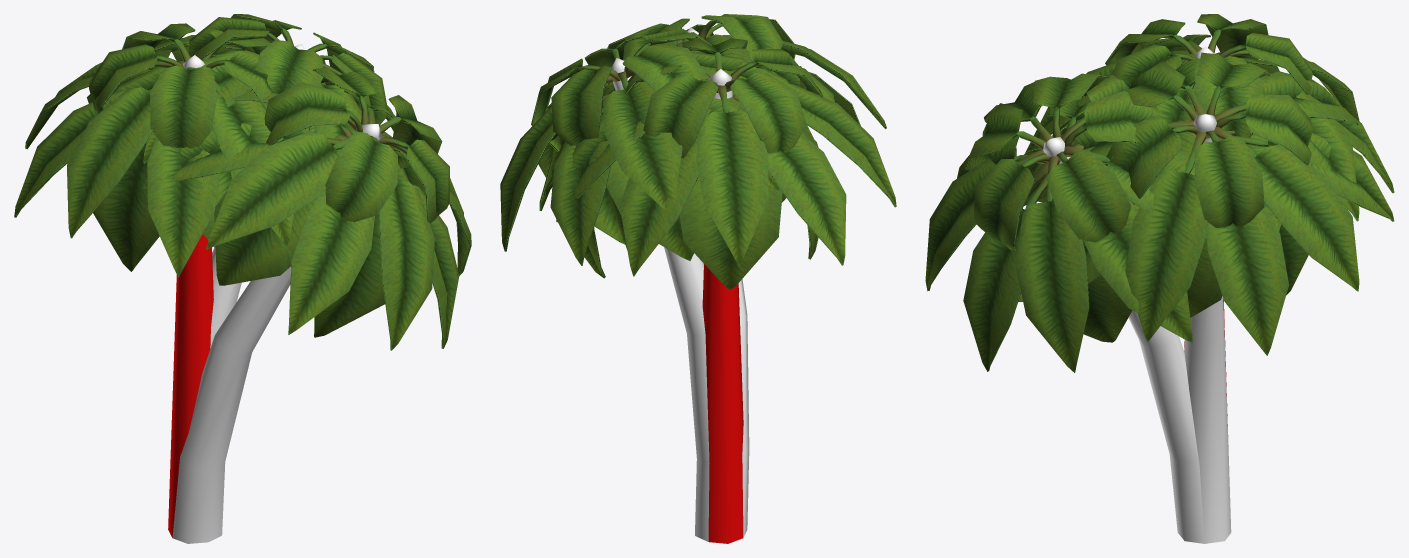
File: palmtree_01.fbx
3 renders of one model, left to right at view 1: azimuth 30°, elevation 25°; view 2: azimuth 150°, elevation 25°; view 3: azimuth 270°, elevation 25°, orthographic. The views are drawn at different scales.
Visible parts, largest first — view 1: palmtree_01c, palmtree_01a, palmtree_01b, colmesh_palmtree_01a; view 2: palmtree_01a, palmtree_01b, colmesh_palmtree_01a, palmtree_01c; view 3: palmtree_01b, palmtree_01c, palmtree_01a.
Part boxes in pixels (<box>): palmtree_01c: <box>143,68,471,543</box>; palmtree_01a: <box>14,23,315,277</box>; palmtree_01b: <box>114,14,424,348</box>; colmesh_palmtree_01a: <box>168,234,213,537</box>; palmtree_01a: <box>544,38,896,289</box>; palmtree_01b: <box>500,29,789,541</box>; colmesh_palmtree_01a: <box>702,264,743,543</box>; palmtree_01c: <box>539,14,886,537</box>; palmtree_01b: <box>1024,50,1394,543</box>; palmtree_01c: <box>925,73,1206,543</box>; palmtree_01a: <box>1025,14,1394,231</box>.
Bounding box in the file's own units: 13482 × 17562 × 14989.
